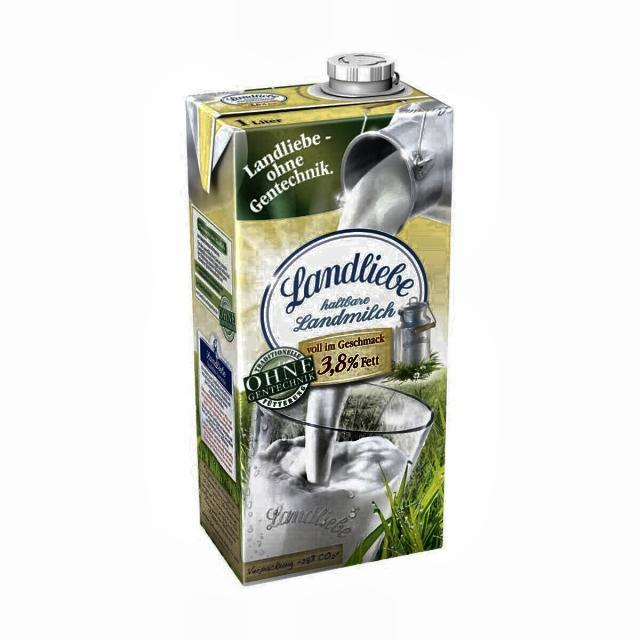cardboard: (186, 60, 452, 586)
